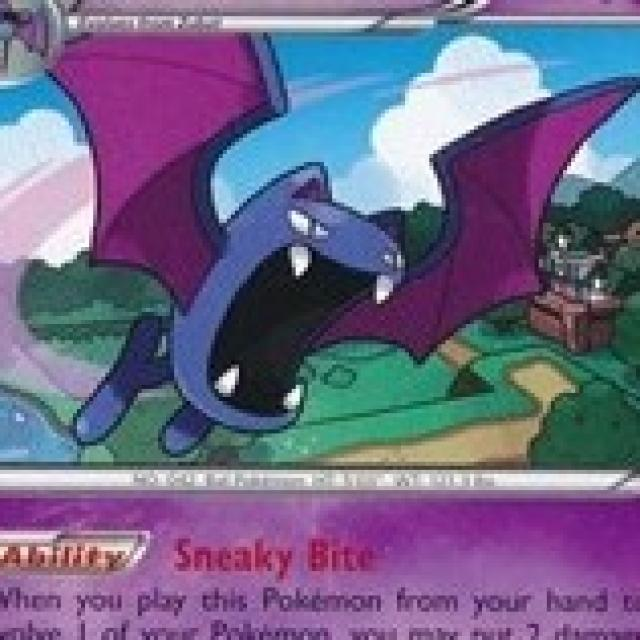Golbat: (56, 38, 602, 460)
